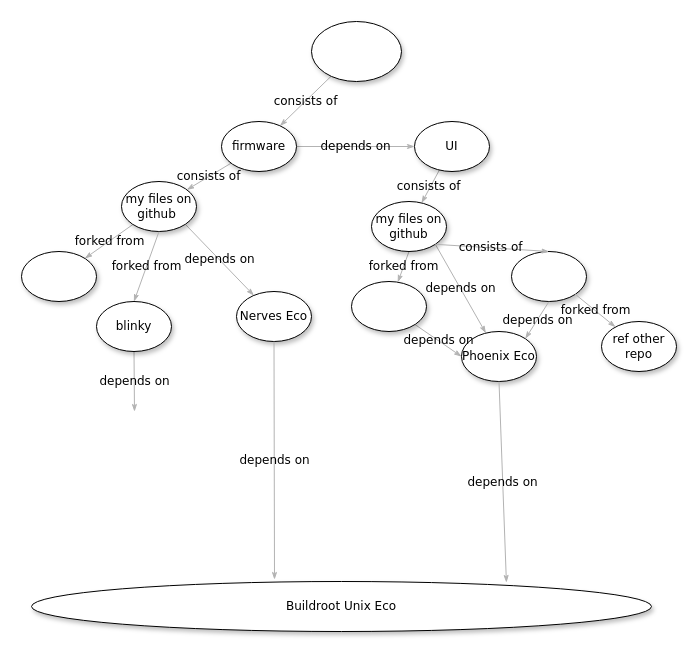
Some shapes in this 700 by 656 pixel diagram are drawn without their labels. Here are the shapes that lost their labels. From the top down, the centre of each, then its label:
At point 357,52: "BlinkyHaHa".
At point 59,277: "nerves phx examplde".
At point 549,277: "OC2 API".
At point 389,307: "nerves phx example".
